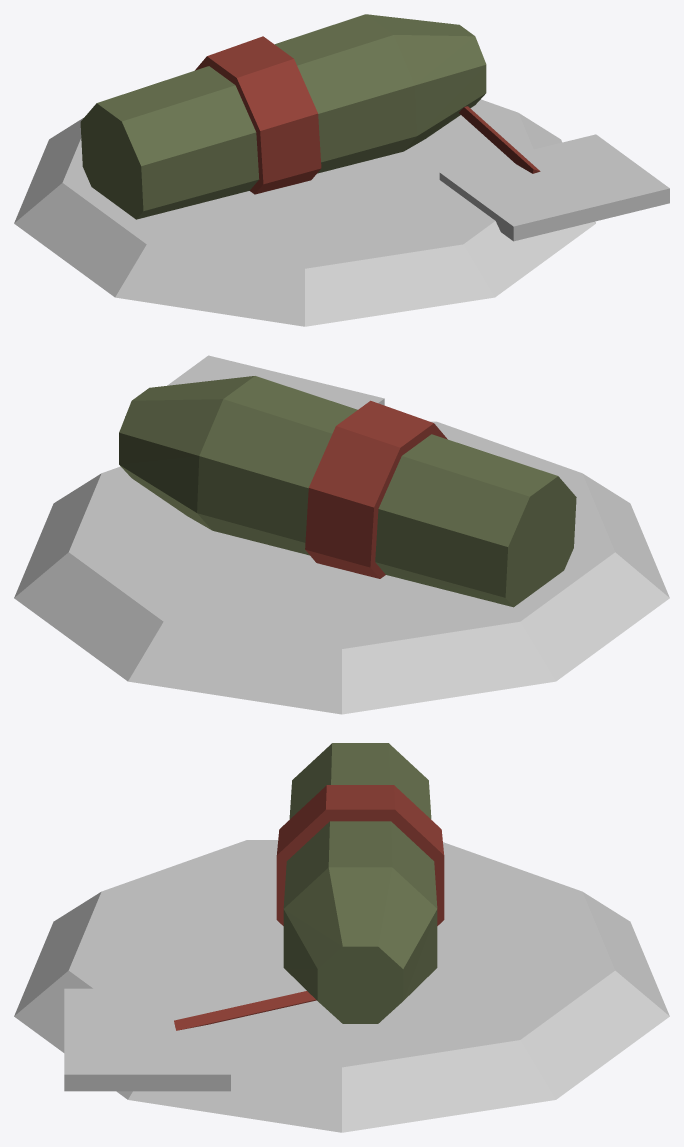
The model's file is ied_highexplosive.obj.
The picture shows the model from 3 angles, top to bottom: view 1: azimuth 30°, elevation 25°; view 2: azimuth 150°, elevation 25°; view 3: azimuth 270°, elevation 25°; orthographic projection. The views are drawn at different scales.
Parts seen in each view (by area): view 1: ied_highexplosive; view 2: ied_highexplosive; view 3: ied_highexplosive.
Boxes of the visible parts, bbox=[...] form: ied_highexplosive: bbox=[14, 14, 669, 326]; ied_highexplosive: bbox=[14, 355, 669, 714]; ied_highexplosive: bbox=[14, 743, 669, 1132].
Size of the model in its own units: 0.6983 by 0.2054 by 0.709.
